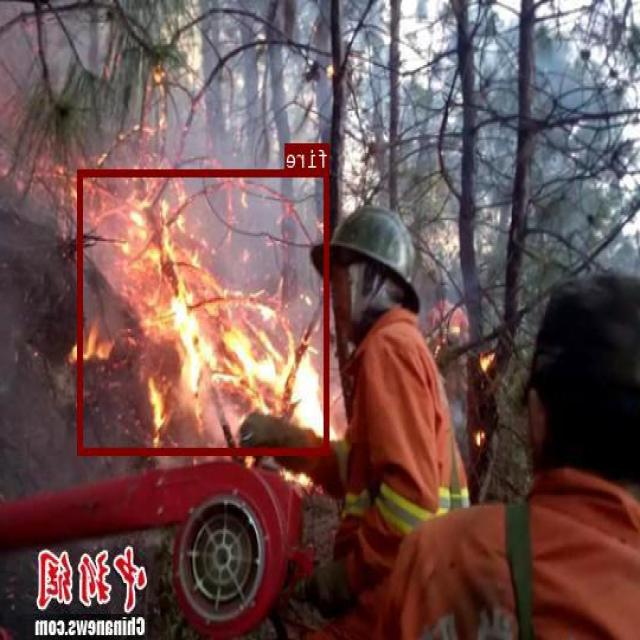fire: (79, 169, 330, 454)
